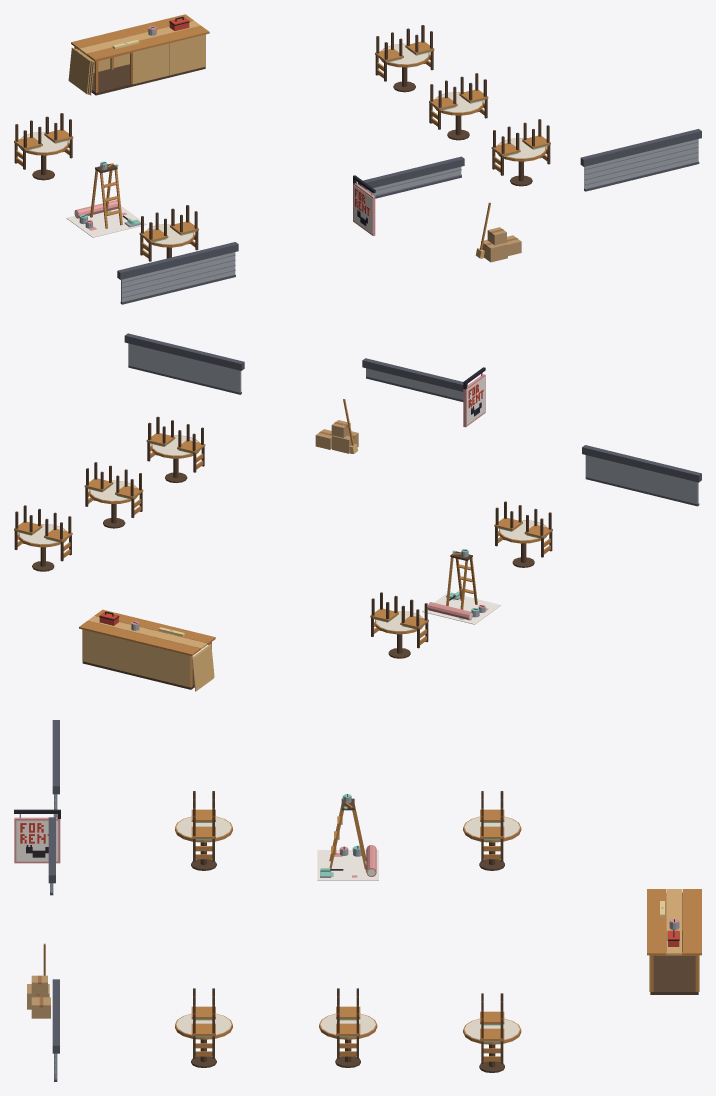
The model's file is CatCafe_Plot_ForRent_52x40.glb.
3 renders of one model, top to bottom at view 1: azimuth 30°, elevation 25°; view 2: azimuth 150°, elevation 25°; view 3: azimuth 270°, elevation 25°, orthographic. The views are drawn at different scales.
Visible parts, largest first — view 1: CatCafe_Plot_ForRent_52x40, CatCafe_Plot_ForRent_52x40_Shutter, CatCafe_Plot_ForRent_52x40_Sign; view 2: CatCafe_Plot_ForRent_52x40, CatCafe_Plot_ForRent_52x40_Shutter; view 3: CatCafe_Plot_ForRent_52x40, CatCafe_Plot_ForRent_52x40_Sign.
Boxes of the visible parts, <box> form: CatCafe_Plot_ForRent_52x40: <box>14,14,701,279</box>; CatCafe_Plot_ForRent_52x40_Shutter: <box>120,139,699,304</box>; CatCafe_Plot_ForRent_52x40_Sign: <box>353,185,372,233</box>; CatCafe_Plot_ForRent_52x40: <box>14,333,701,691</box>; CatCafe_Plot_ForRent_52x40_Shutter: <box>128,343,699,506</box>; CatCafe_Plot_ForRent_52x40: <box>14,720,701,1072</box>; CatCafe_Plot_ForRent_52x40_Sign: <box>16,820,58,861</box>.
Size of the model in its own units: 47.7 by 8.45 by 42.6.
Materials: 1 (1 with a texture image).
